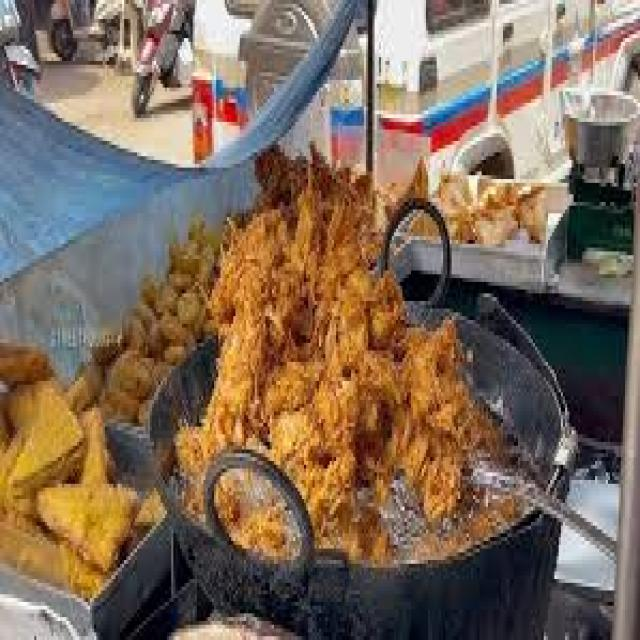BAJI: (173, 141, 497, 560)
